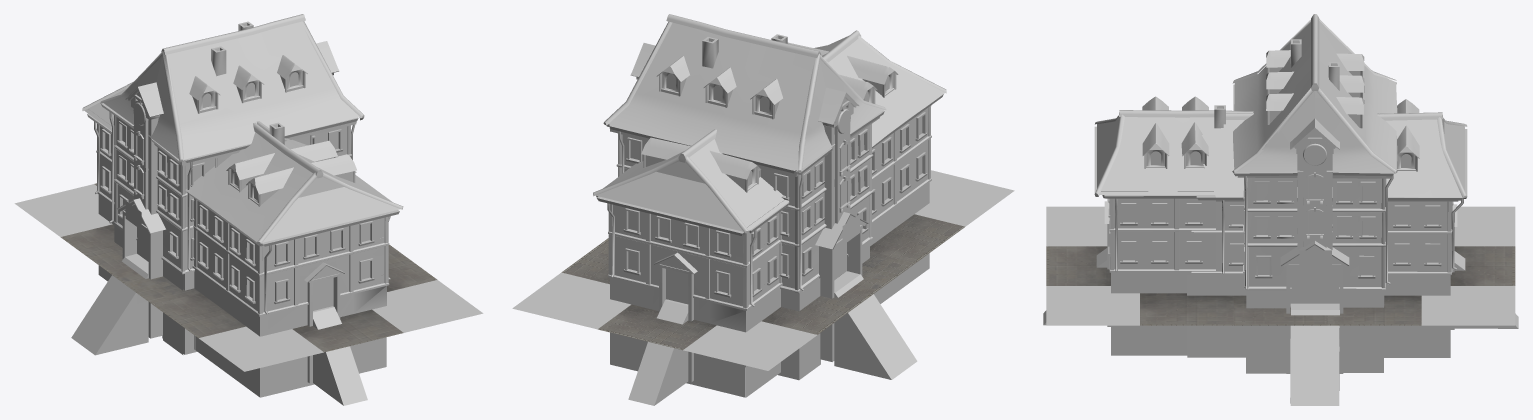
Rendered from library.gltf.
3 views of the same model, side by side, from view 1: azimuth 30°, elevation 25°; view 2: azimuth 150°, elevation 25°; view 3: azimuth 270°, elevation 25° (orthographic). The views are drawn at different scales.
Parts seen in each view (by area): view 1: _library_lod0, file_c4_corner4.001, file_c4_corner4.004, file_c4_corner4.003, file_c4_center3.005, file_c4_center3.002, file_c4_center3.004, file_c4_endr.001, file_c4_center3.003; view 2: _library_lod0, file_c4_corner4.003, file_c4_corner4.002, file_c4_corner4.004, file_c4_center3.006, file_c4_center3.002, file_c4_center3.004, file_c4_endr.001, file_c4_center3.001; view 3: _library_lod0, file_c4_corner4.001, file_c4_corner4.002, file_c4_center3.003, file_c4_corner4.004, file_c4_corner4.003, file_c4_center3.006, file_c4_center3.005, file_c4_center3.001, file_c4_endl.003.
Boxes of the visible parts, left/top/right/bottom form: _library_lod0: left=71, top=14, right=403, bottom=405; file_c4_corner4.001: left=372, top=280, right=483, bottom=332; file_c4_corner4.004: left=199, top=326, right=323, bottom=371; file_c4_corner4.003: left=14, top=184, right=112, bottom=236; file_c4_center3.005: left=292, top=309, right=403, bottom=352; file_c4_center3.002: left=153, top=293, right=245, bottom=337; file_c4_center3.004: left=60, top=224, right=126, bottom=270; file_c4_endr.001: left=106, top=265, right=199, bottom=304; file_c4_center3.003: left=387, top=246, right=437, bottom=291; _library_lod0: left=593, top=14, right=946, bottom=405; file_c4_corner4.003: left=683, top=321, right=816, bottom=370; file_c4_corner4.002: left=512, top=272, right=630, bottom=329; file_c4_corner4.004: left=914, top=170, right=1014, bottom=226; file_c4_center3.006: left=598, top=304, right=716, bottom=350; file_c4_center3.002: left=870, top=214, right=964, bottom=262; file_c4_center3.004: left=762, top=293, right=866, bottom=334; file_c4_endr.001: left=839, top=251, right=915, bottom=298; file_c4_center3.001: left=561, top=238, right=609, bottom=284; _library_lod0: left=1043, top=14, right=1518, bottom=405; file_c4_corner4.001: left=1046, top=286, right=1139, bottom=325; file_c4_corner4.002: left=1421, top=286, right=1515, bottom=325; file_c4_center3.003: left=1140, top=293, right=1233, bottom=325; file_c4_corner4.004: left=1046, top=206, right=1107, bottom=246; file_c4_corner4.003: left=1454, top=206, right=1515, bottom=246; file_c4_center3.006: left=1450, top=246, right=1515, bottom=285; file_c4_center3.005: left=1046, top=246, right=1110, bottom=285; file_c4_center3.001: left=1327, top=295, right=1421, bottom=325; file_c4_endl.003: left=1234, top=295, right=1327, bottom=325.
Size of the model in its own units: 3.74 by 3.34 by 5.06.
